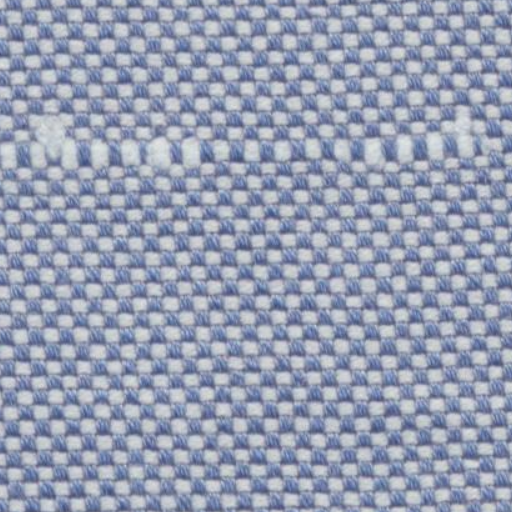DaiSha: (12, 103, 496, 186)
